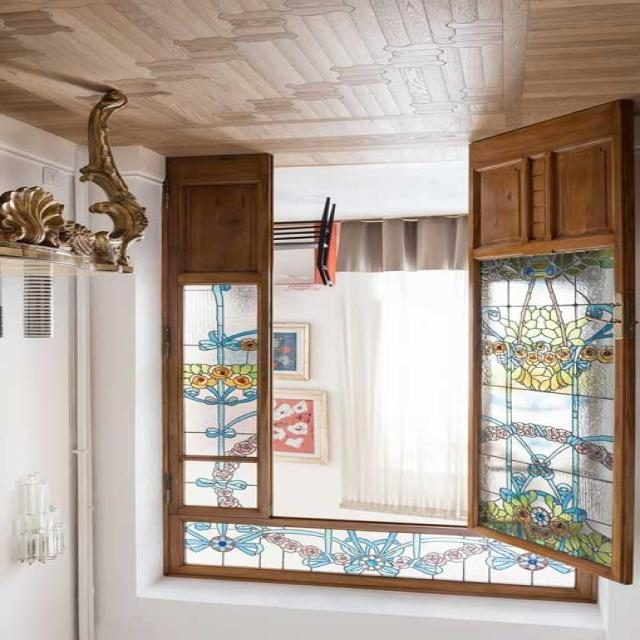door: (467, 100, 637, 585)
